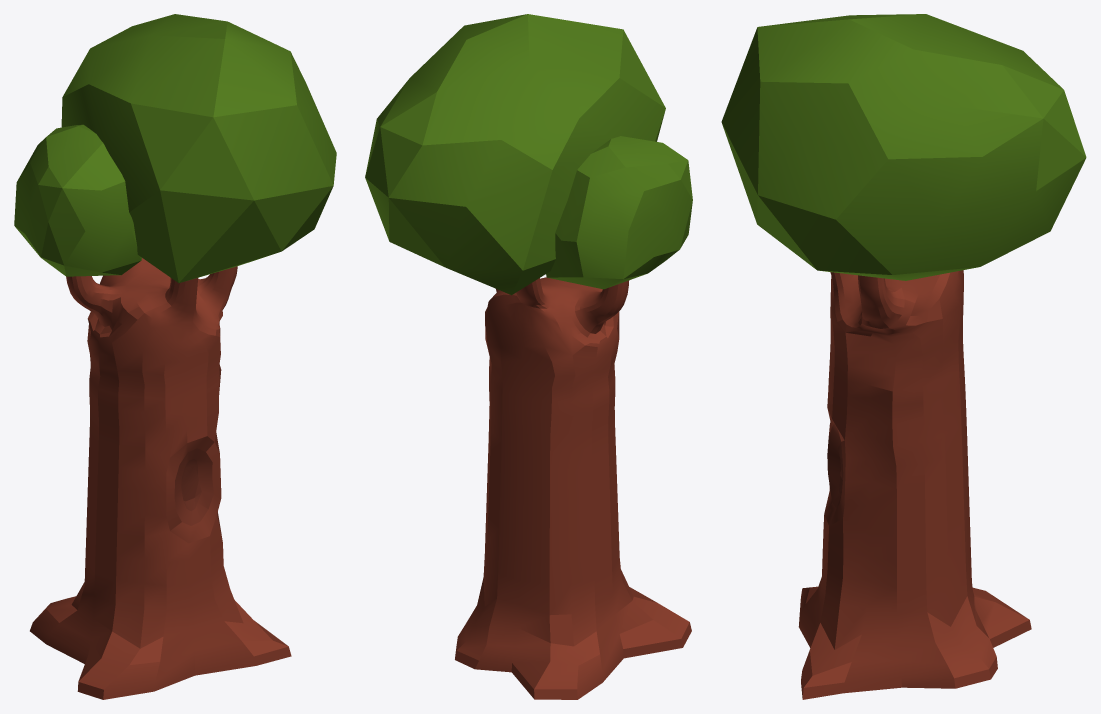
Rendered from Tree3.fbx.
3 renders of one model, left to right at view 1: azimuth 30°, elevation 25°; view 2: azimuth 150°, elevation 25°; view 3: azimuth 270°, elevation 25°, orthographic. The views are drawn at different scales.
Parts seen in each view (by area): view 1: Plane.003; view 2: Plane.003; view 3: Plane.003.
Part boxes in pixels (left/top/right/bottom): Plane.003: left=14, top=14, right=336, bottom=699; Plane.003: left=365, top=14, right=692, bottom=699; Plane.003: left=721, top=14, right=1086, bottom=699.
Size of the model in its own units: 6.68 by 14.12 by 7.08.
